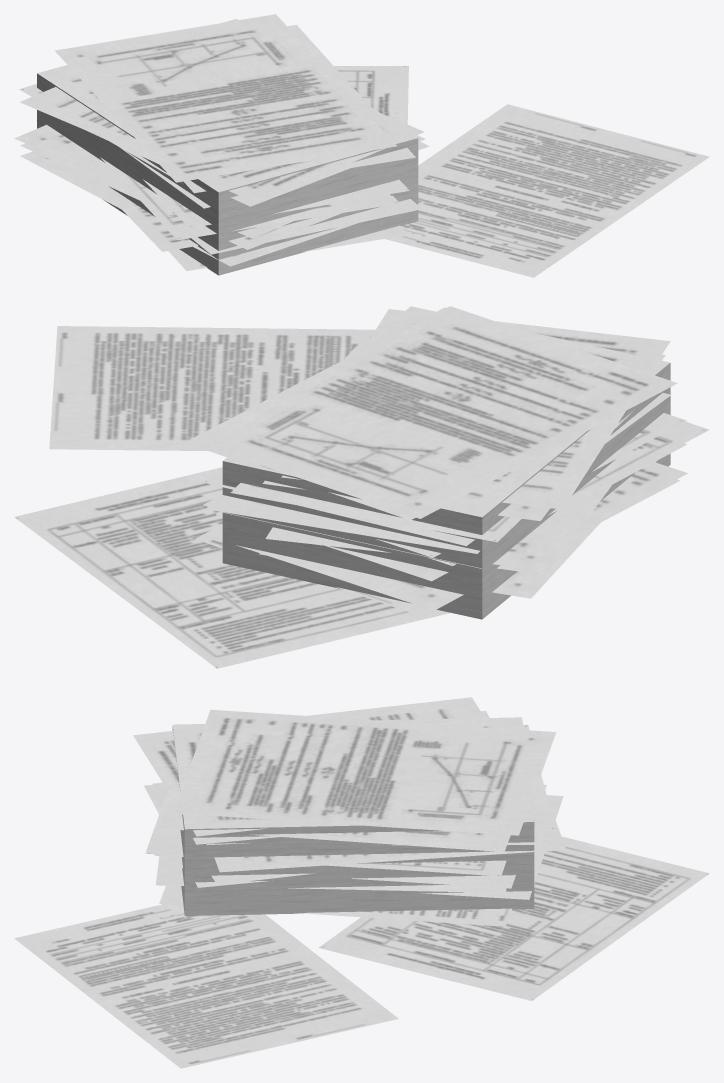
The picture shows the model from 3 angles, top to bottom: view 1: azimuth 30°, elevation 25°; view 2: azimuth 150°, elevation 25°; view 3: azimuth 270°, elevation 25°; orthographic projection. The views are drawn at different scales.
Parts seen in each view (by area): view 1: IMPORT (×3); view 2: IMPORT (×3); view 3: IMPORT (×3).
Boxes of the visible parts, x1,y1,x2,y2 form: IMPORT (×3): (14, 14, 709, 277); IMPORT (×3): (14, 306, 709, 668); IMPORT (×3): (14, 697, 709, 1068).
Size of the model in its own units: 0.1207 by 0.0189 by 0.1265.
Materials: 1 (1 with a texture image).
